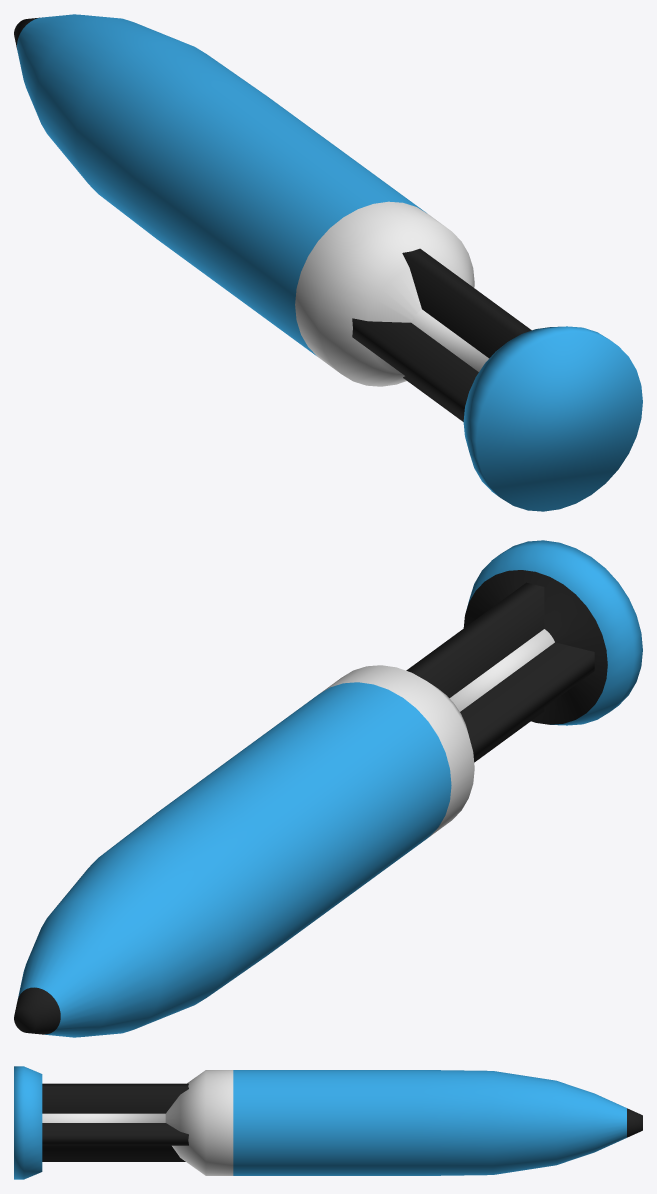
The model's file is Bullet.fbx.
3 views of the same model, one above another, from view 1: azimuth 30°, elevation 25°; view 2: azimuth 150°, elevation 25°; view 3: azimuth 270°, elevation 25° (orthographic). The views are drawn at different scales.
Visible parts, largest first — view 1: Bullet; view 2: Bullet; view 3: Bullet.
Part boxes in pixels (x1=…): Bullet: x1=14, y1=14, x2=642, y2=511; Bullet: x1=14, y1=540, x2=642, y2=1037; Bullet: x1=14, y1=1066, x2=642, y2=1179.
Bounding box in the file's own units: 20.85 × 20.85 × 116.
